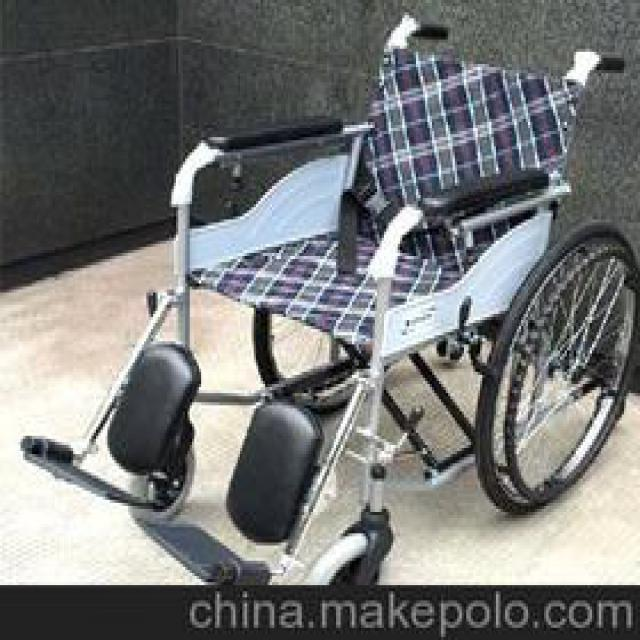wheelchair: (19, 9, 636, 579)
